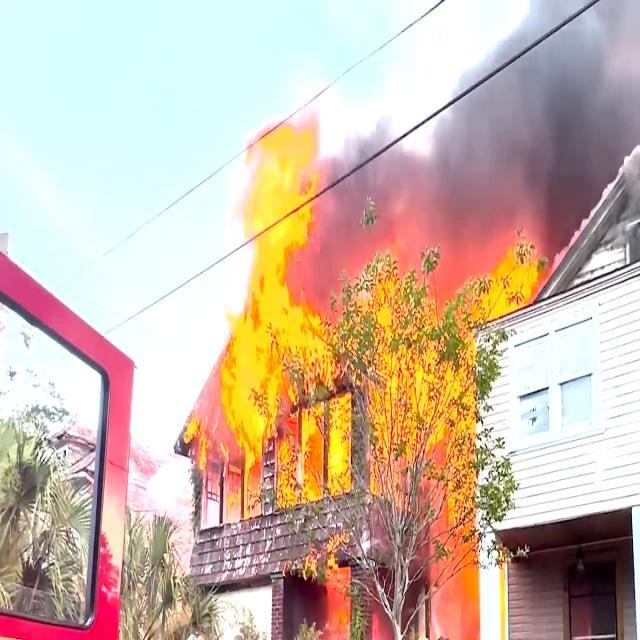Fire: (223, 128, 349, 491), (356, 267, 472, 640)
Smoke: (378, 150, 566, 240), (530, 2, 640, 148)
